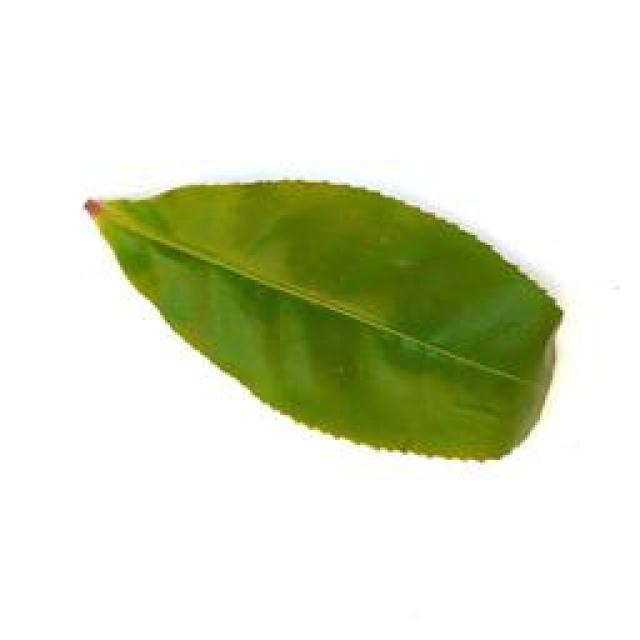Healthy: (74, 166, 589, 470)
